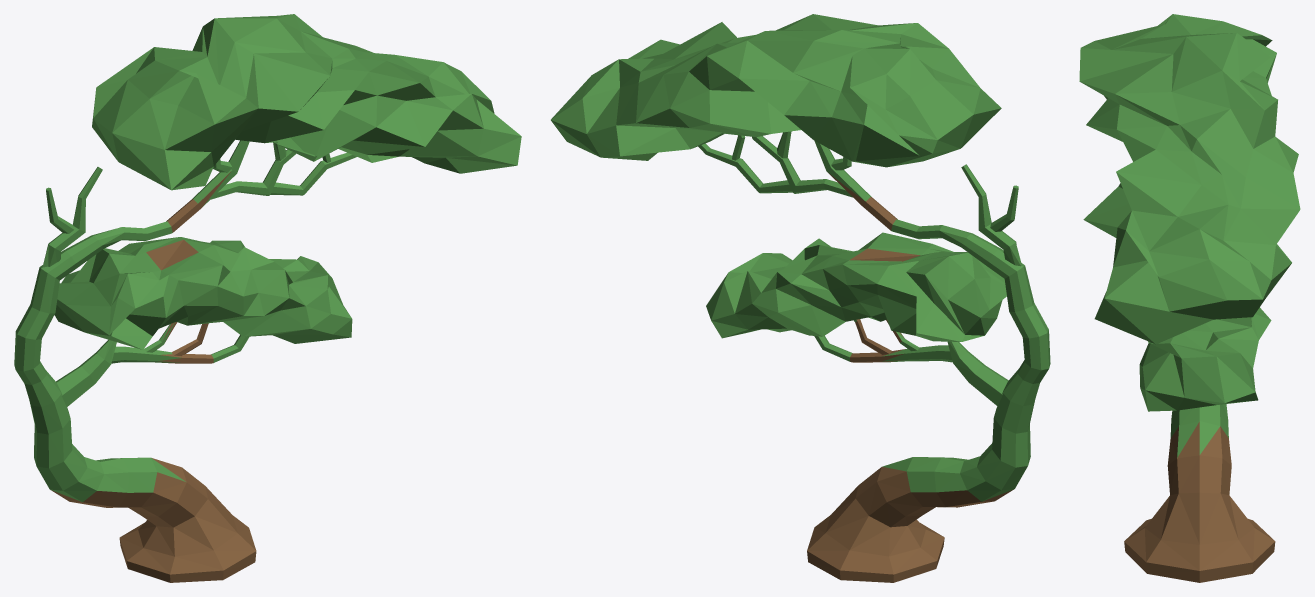
File: tree3d-061.glb
The picture shows the model from 3 angles, left to right: view 1: azimuth 30°, elevation 25°; view 2: azimuth 150°, elevation 25°; view 3: azimuth 270°, elevation 25°; orthographic projection. The views are drawn at different scales.
Parts seen in each view (by area): view 1: tree3d-061; view 2: tree3d-061; view 3: tree3d-061.
Part boxes in pixels (left/top/right/bottom): tree3d-061: left=14, top=14, right=521, bottom=582; tree3d-061: left=551, top=14, right=1050, bottom=582; tree3d-061: left=1079, top=14, right=1300, bottom=582.
Bounding box in the file's own units: 0.9576 × 1 × 0.3696.
